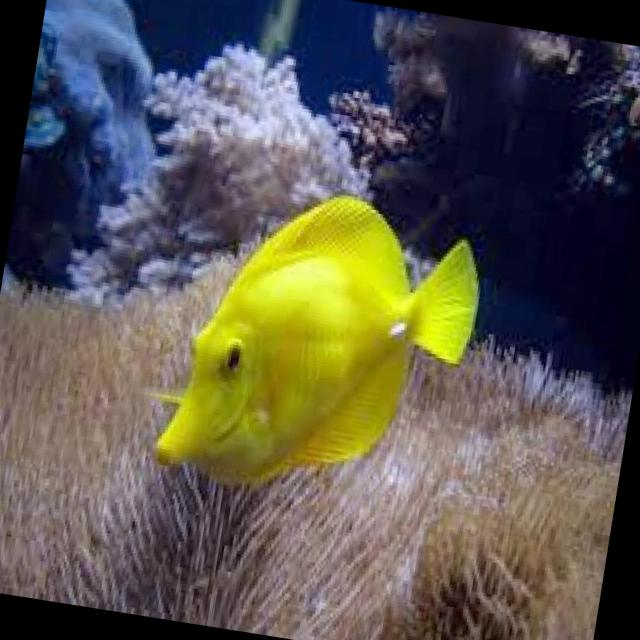TangFish: (128, 165, 500, 518)
